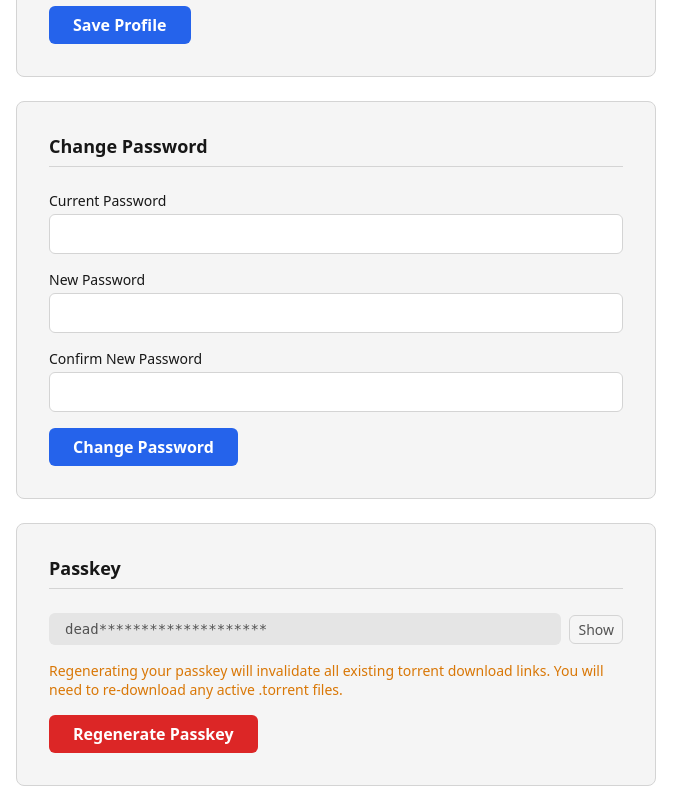
it: UserSettingsPage › toggles passkey visibility
(page scrolled)
What coordinates should you click on to do the following:
click the button "Show"
I would click on:
 (596, 629)
Its box is x1=570 y1=614 x2=623 y2=644.
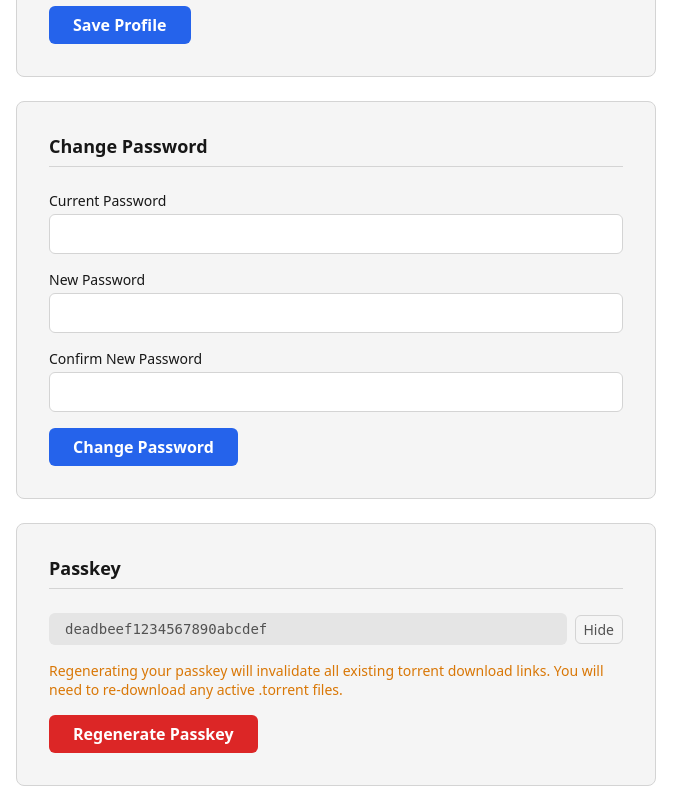
Expected: the text "deadbeef1234567890abcdef" is shown, x1=49 y1=613 x2=566 y2=645
What coordinates should you click on to do the following:
click the button "Hide"
I would click on:
 (599, 629)
Its box is x1=574 y1=614 x2=623 y2=644.
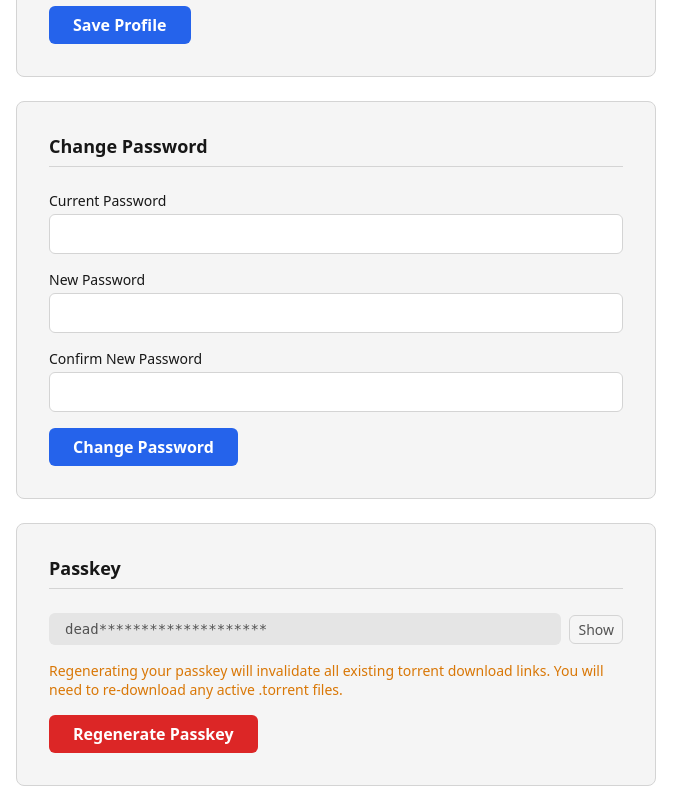
Expected: the text "dead********************" is shown, x1=49 y1=613 x2=562 y2=645
